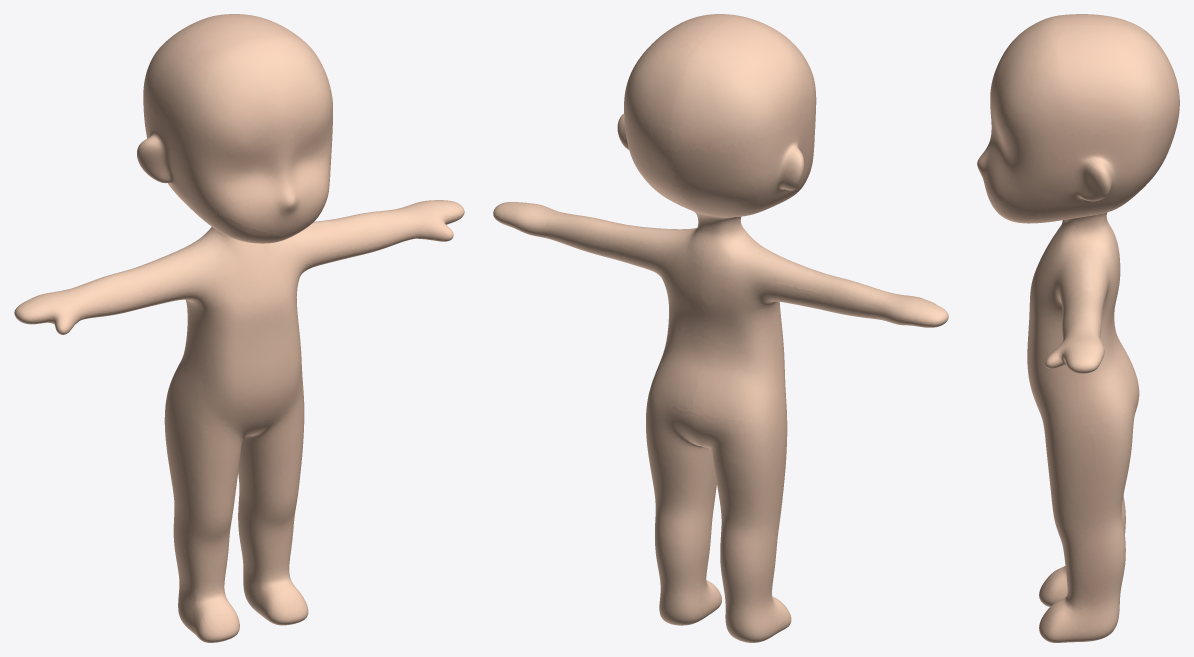
File: char_namja_base_tpose.glb
3 views of the same model, side by side, from view 1: azimuth 30°, elevation 25°; view 2: azimuth 150°, elevation 25°; view 3: azimuth 270°, elevation 25° (orthographic).
Size of the model in its own units: 1.49 by 1.9 by 0.5851.
Materials: 1 (1 with a texture image).
